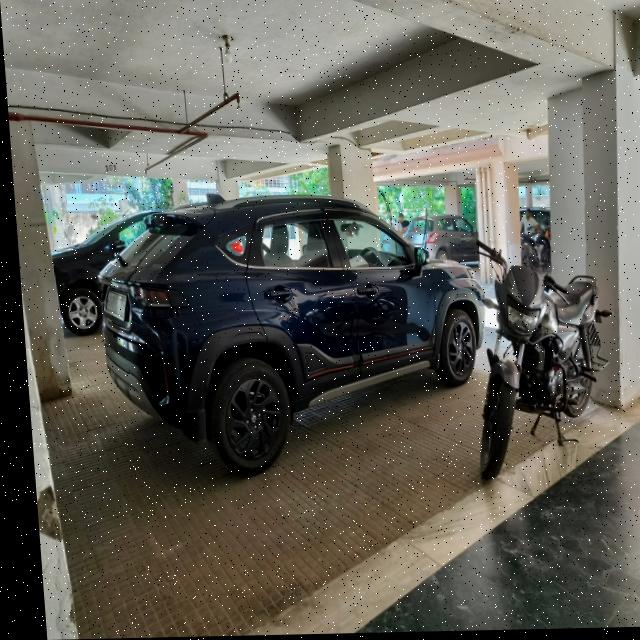bike: (445, 240, 623, 489), (516, 231, 548, 270)
car: (90, 187, 484, 482), (42, 190, 153, 341), (402, 202, 485, 264), (516, 207, 551, 229)
